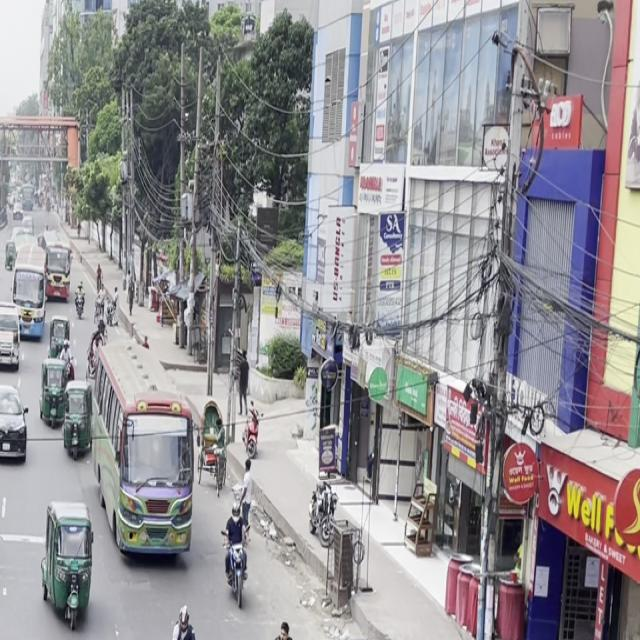bicycle: (160, 601, 206, 640), (258, 614, 307, 640)
bus: (87, 331, 202, 571), (11, 240, 52, 343), (41, 230, 74, 302)
car: (303, 622, 473, 640), (0, 383, 31, 471), (0, 316, 20, 373)
motorbike: (219, 494, 254, 611)
rickshaw: (37, 498, 100, 638), (60, 380, 95, 464), (35, 353, 70, 431)
